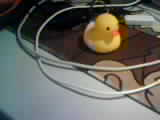duck: (80, 5, 131, 51)
